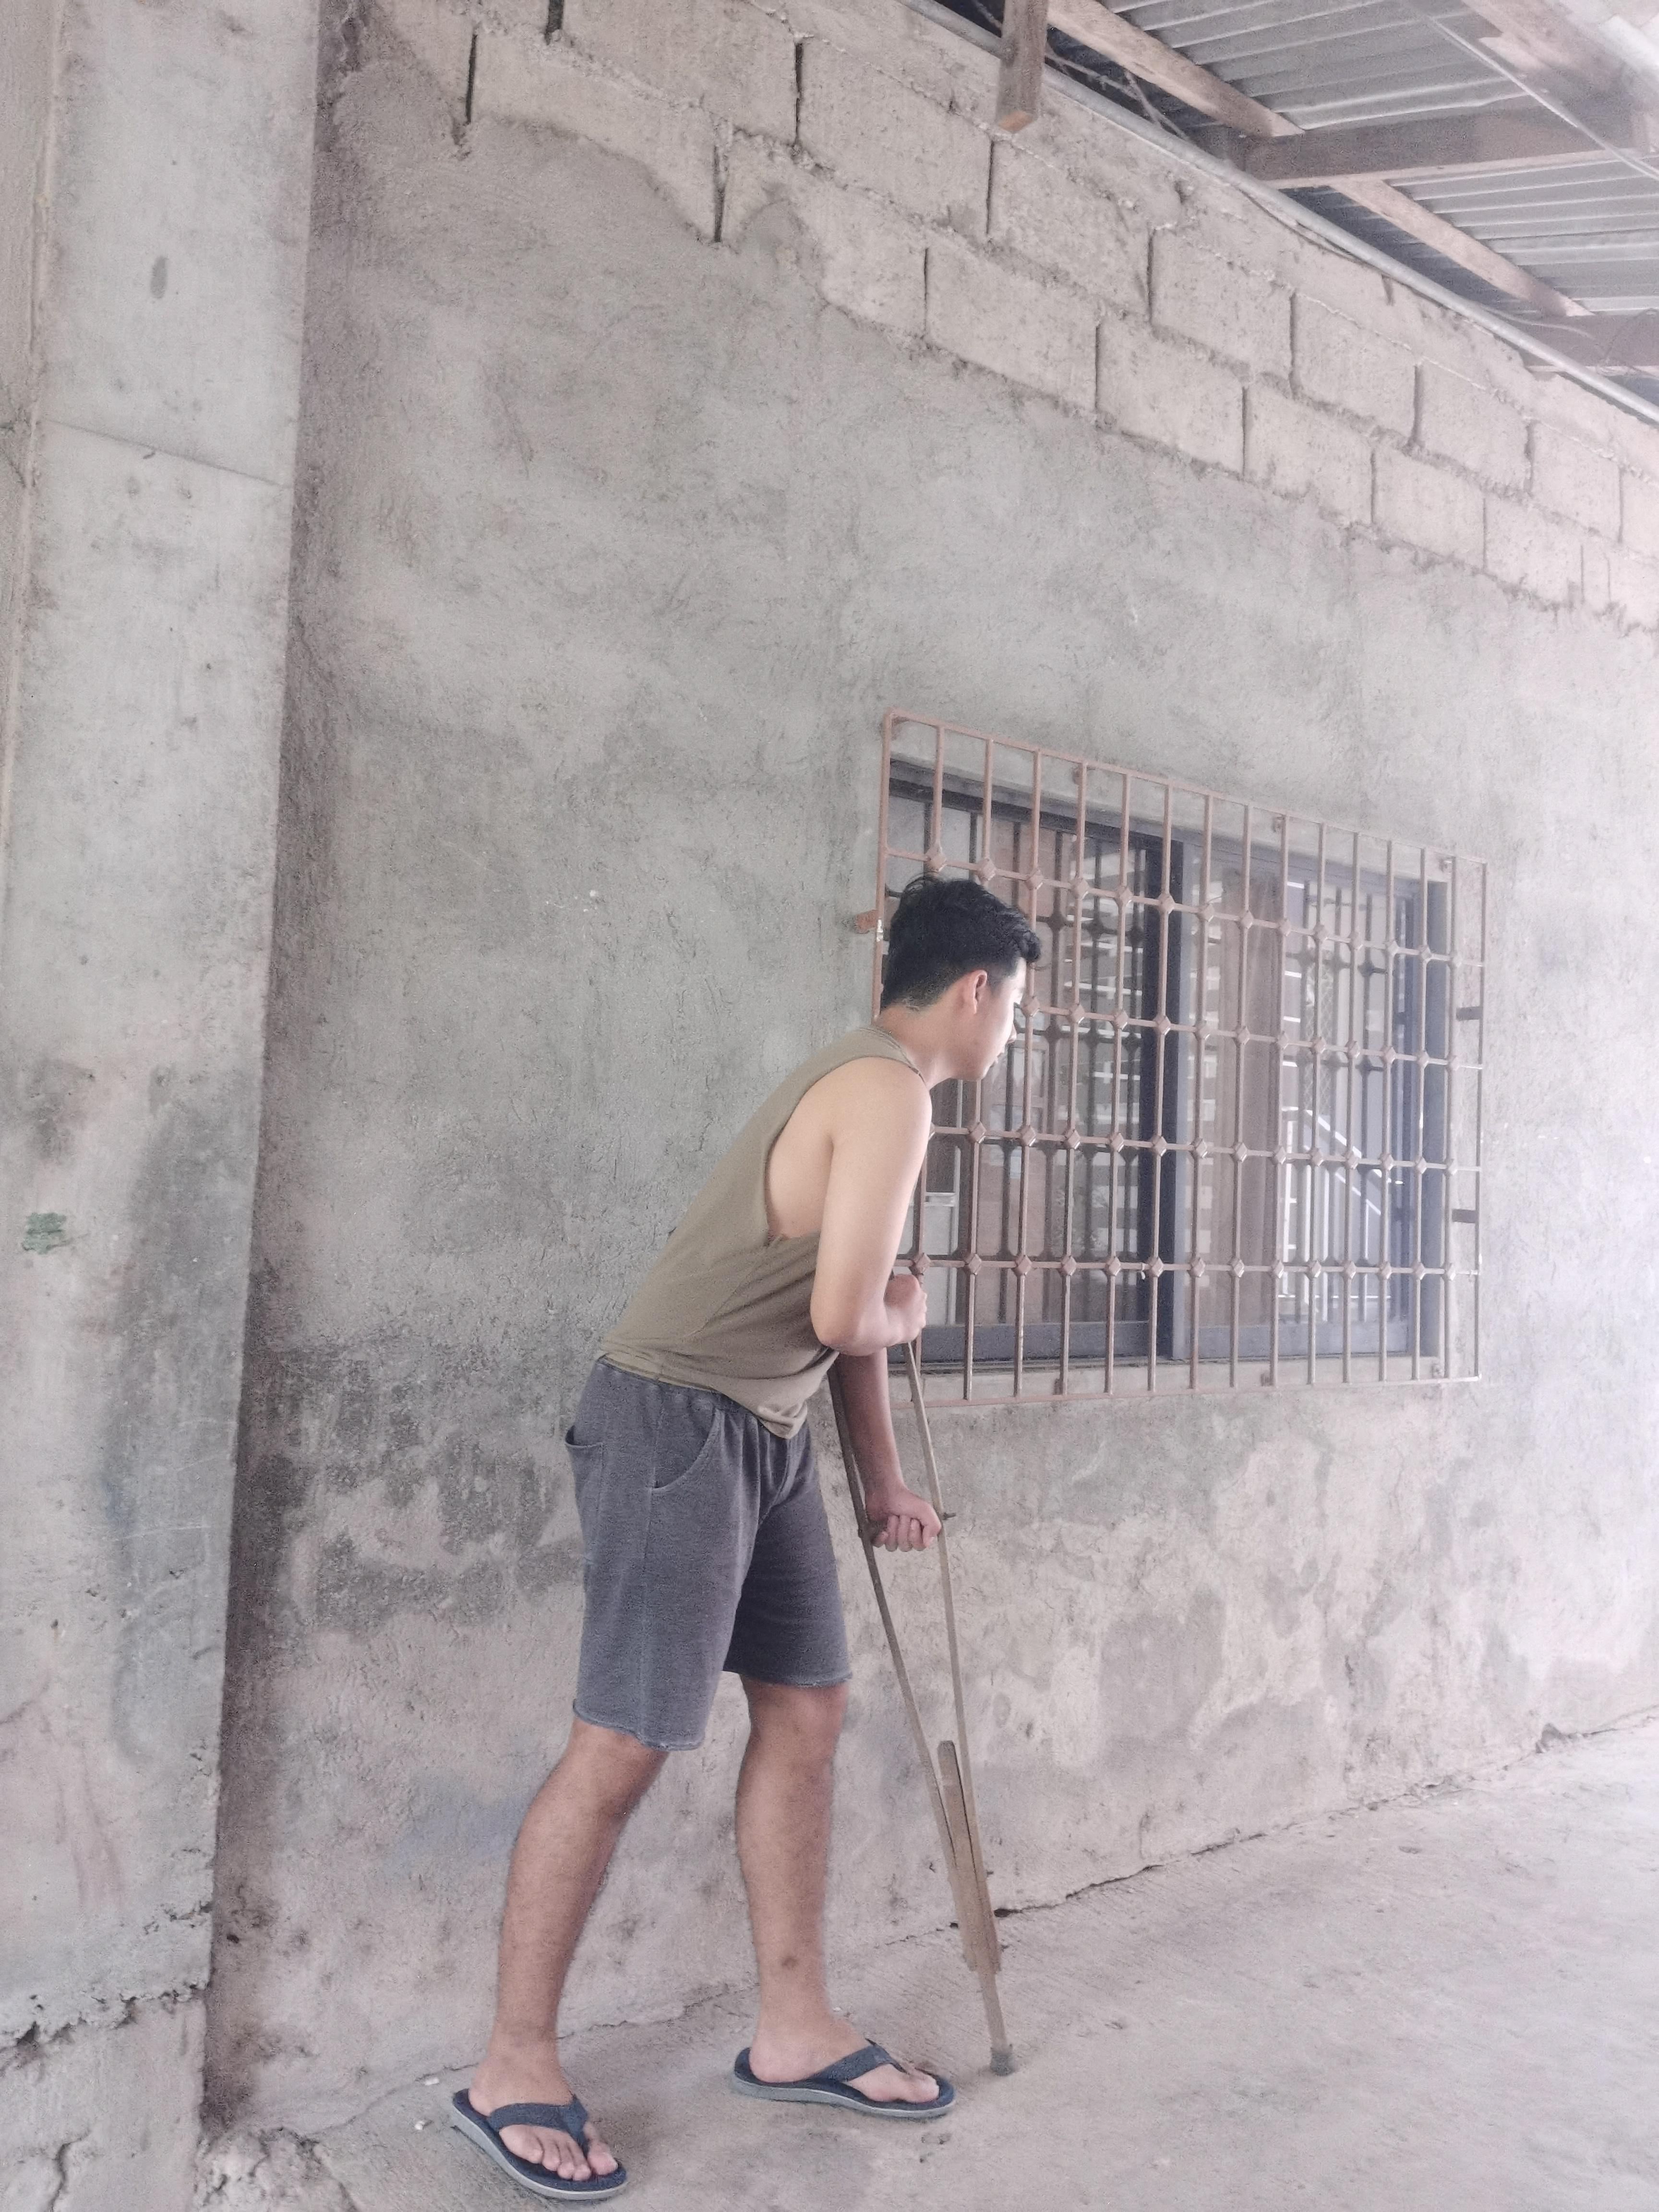crutches: (450, 878, 1044, 2203)
